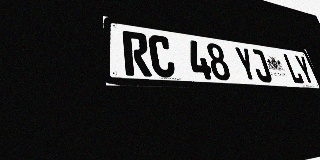4: (186, 39, 213, 80)
8: (205, 42, 232, 81)
C: (147, 34, 177, 78)
J: (249, 48, 273, 83)
L: (282, 53, 305, 84)
R: (122, 30, 152, 77)
Y: (233, 46, 259, 82), (293, 55, 316, 85)
